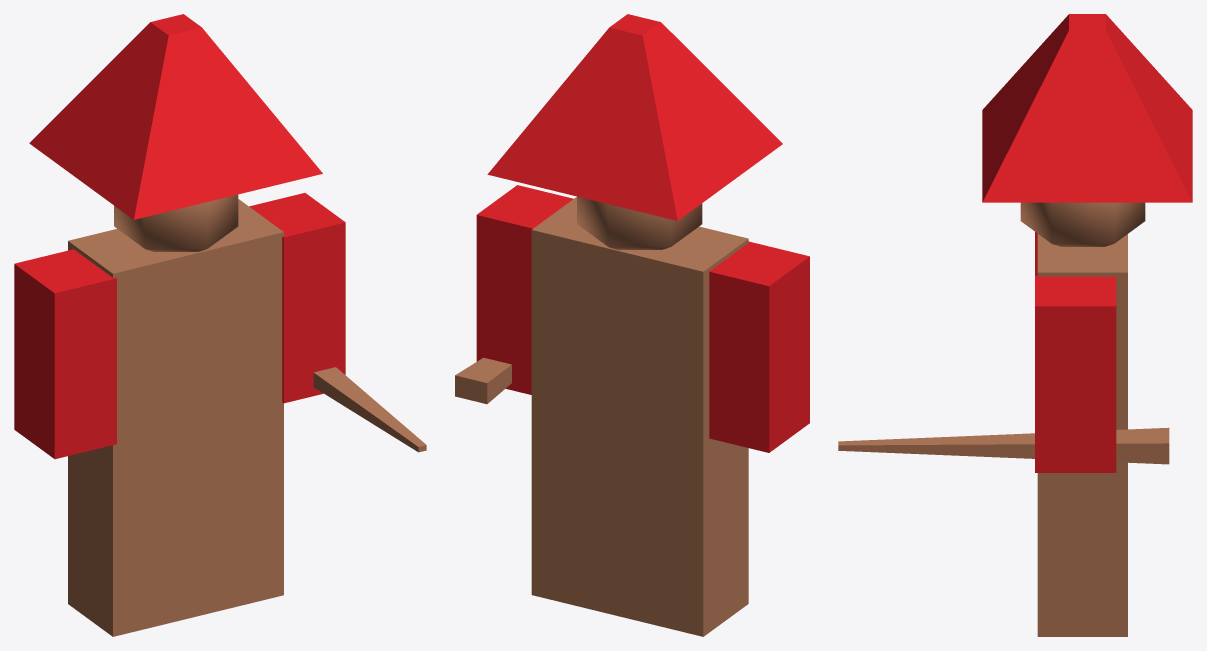
File: asigaru_Rowpori.fbx
3 views of the same model, side by side, from view 1: azimuth 30°, elevation 25°; view 2: azimuth 150°, elevation 25°; view 3: azimuth 270°, elevation 25° (orthographic).
Parts seen in each view (by area): view 1: Box002, Box003, Box004, Box005, Sphere001, Box006; view 2: Box002, Box003, Box004, Box005, Sphere001, Box006; view 3: Box003, Box002, Box005, Box006, Sphere001.
Boxes of the visible parts, bbox=[...] form: Box002: bbox=[68, 199, 283, 636]; Box003: bbox=[29, 14, 322, 219]; Box004: bbox=[14, 249, 116, 459]; Box005: bbox=[249, 193, 345, 403]; Sphere001: bbox=[114, 194, 238, 251]; Box006: bbox=[313, 367, 426, 452]; Box002: bbox=[531, 197, 748, 636]; Box003: bbox=[487, 14, 782, 220]; Box004: bbox=[709, 241, 809, 452]; Box005: bbox=[476, 185, 573, 394]; Sphere001: bbox=[577, 196, 702, 249]; Box006: bbox=[455, 357, 511, 404]; Box003: bbox=[982, 14, 1192, 202]; Box002: bbox=[1037, 234, 1127, 636]; Box005: bbox=[1035, 276, 1116, 472]; Box006: bbox=[838, 427, 1169, 464]; Sphere001: bbox=[1020, 202, 1145, 246].
Size of the model in its own units: 96.9 by 102 by 182.
Materials: 2 (2 with a texture image).
